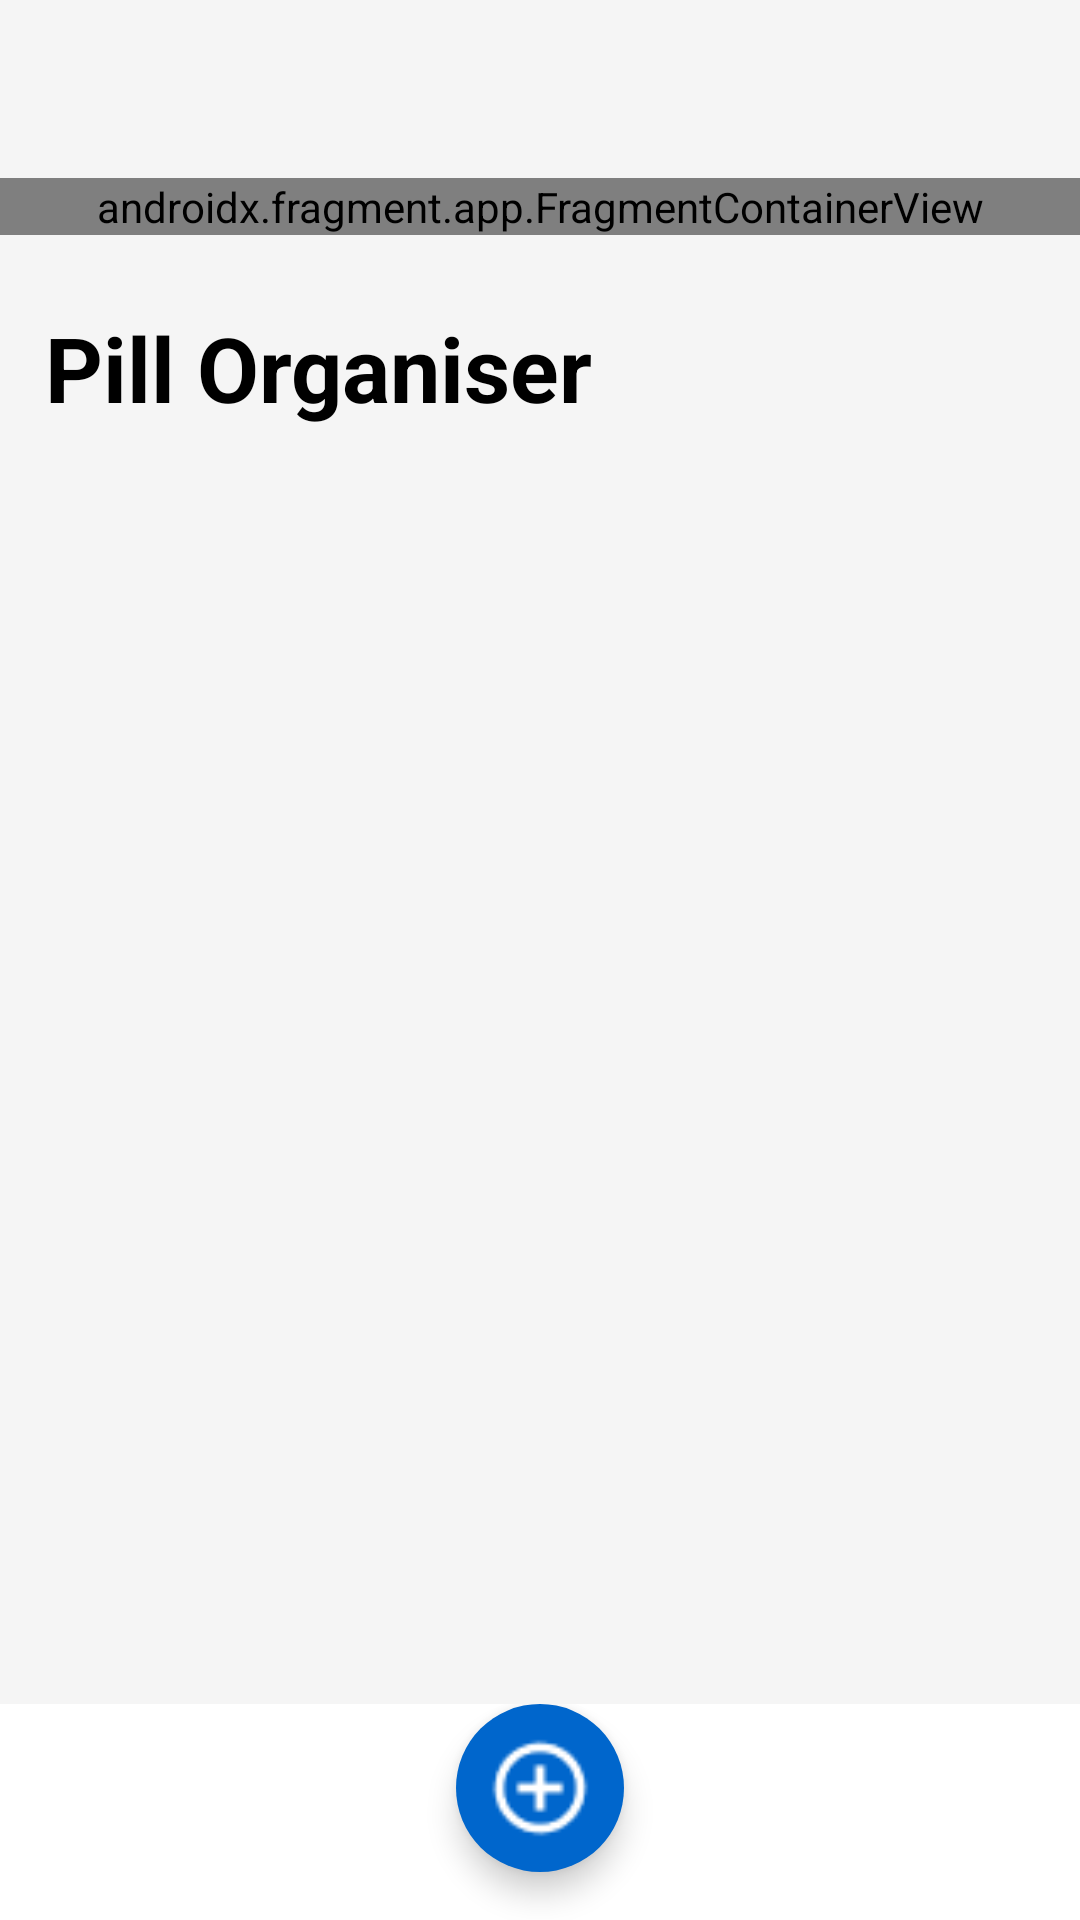

Icon bounding boxes for this 1080 x 1920 phone screenshot, format (left=x1, top=y1, right=x2, bottom=y2):
add circle: (left=456, top=1704, right=624, bottom=1872)
